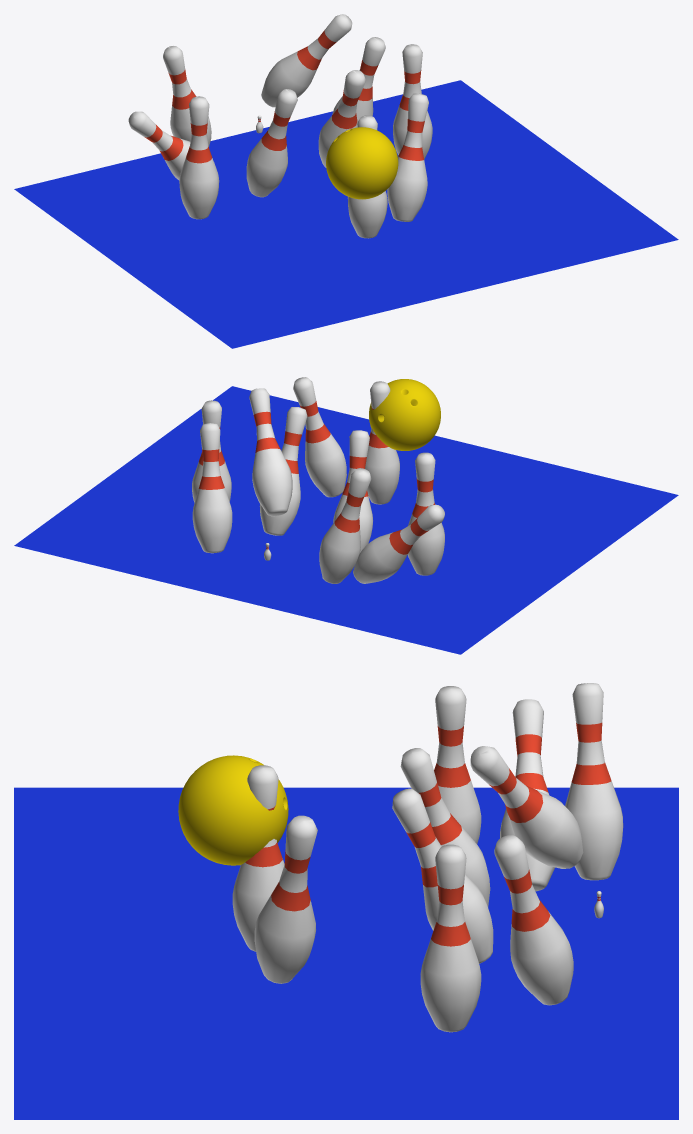
The model's file is ball.fbx.
The picture shows the model from 3 angles, top to bottom: view 1: azimuth 30°, elevation 25°; view 2: azimuth 150°, elevation 25°; view 3: azimuth 270°, elevation 25°; orthographic projection. The views are drawn at different scales.
Parts seen in each view (by area): view 1: Ground, Icosphere, Pin 2, Pin 10, Pin 9, Pin 5, Pin 7, Pin 6, Pin 8, Pin 1, Pin 3, Pin 4; view 2: Ground, Icosphere, Pin 4, Pin 5, Pin 2, Pin 6, Pin 3, Pin 10, Pin 1, Pin 8, Pin 9, Pin 7; view 3: Ground, Icosphere, Pin 7, Pin 6, Pin 4, Pin 2, Pin 5, Pin 8, Pin 10, Pin 1, Pin 9, Pin 3.
Boxes of the visible parts, bbox=[...] form: Ground: bbox=[14, 80, 678, 348]; Icosphere: bbox=[326, 127, 398, 199]; Pin 2: bbox=[387, 93, 428, 221]; Pin 10: bbox=[179, 96, 219, 219]; Pin 9: bbox=[246, 89, 297, 197]; Pin 5: bbox=[261, 14, 352, 107]; Pin 7: bbox=[393, 44, 432, 159]; Pin 6: bbox=[163, 46, 211, 146]; Pin 8: bbox=[318, 70, 365, 167]; Pin 1: bbox=[347, 115, 387, 238]; Pin 3: bbox=[128, 111, 218, 180]; Pin 4: bbox=[332, 37, 385, 121]; Ground: bbox=[14, 386, 678, 654]; Icosphere: bbox=[369, 379, 440, 450]; Pin 4: bbox=[192, 423, 232, 553]; Pin 5: bbox=[249, 388, 292, 516]; Pin 2: bbox=[293, 377, 346, 497]; Pin 6: bbox=[319, 468, 371, 583]; Pin 3: bbox=[353, 504, 444, 583]; Pin 10: bbox=[408, 452, 444, 575]; Pin 1: bbox=[365, 381, 399, 504]; Pin 8: bbox=[259, 407, 307, 535]; Pin 9: bbox=[333, 430, 373, 553]; Pin 7: bbox=[192, 400, 231, 502]; Ground: bbox=[14, 787, 678, 1119]; Icosphere: bbox=[178, 755, 288, 865]; Pin 7: bbox=[420, 844, 481, 1032]; Pin 6: bbox=[565, 683, 623, 880]; Pin 4: bbox=[494, 835, 573, 1005]; Pin 2: bbox=[254, 815, 317, 983]; Pin 5: bbox=[470, 746, 583, 868]; Pin 8: bbox=[392, 788, 493, 963]; Pin 10: bbox=[434, 686, 481, 844]; Pin 1: bbox=[232, 765, 284, 951]; Pin 9: bbox=[400, 748, 490, 907]; Pin 3: bbox=[500, 699, 554, 891].
Bounding box in the file's own units: 3768 × 1257 × 3188.
